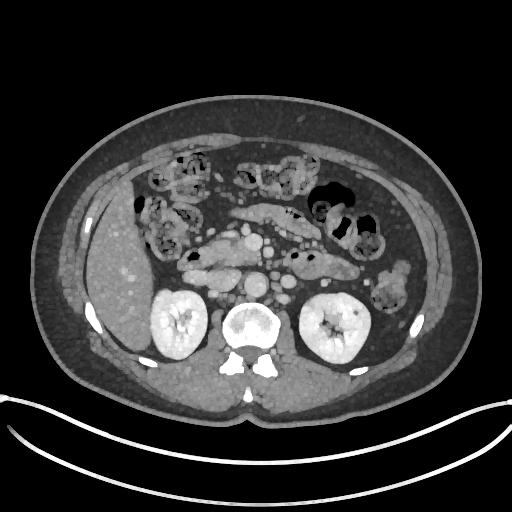Lesion: (350, 307, 360, 320)
